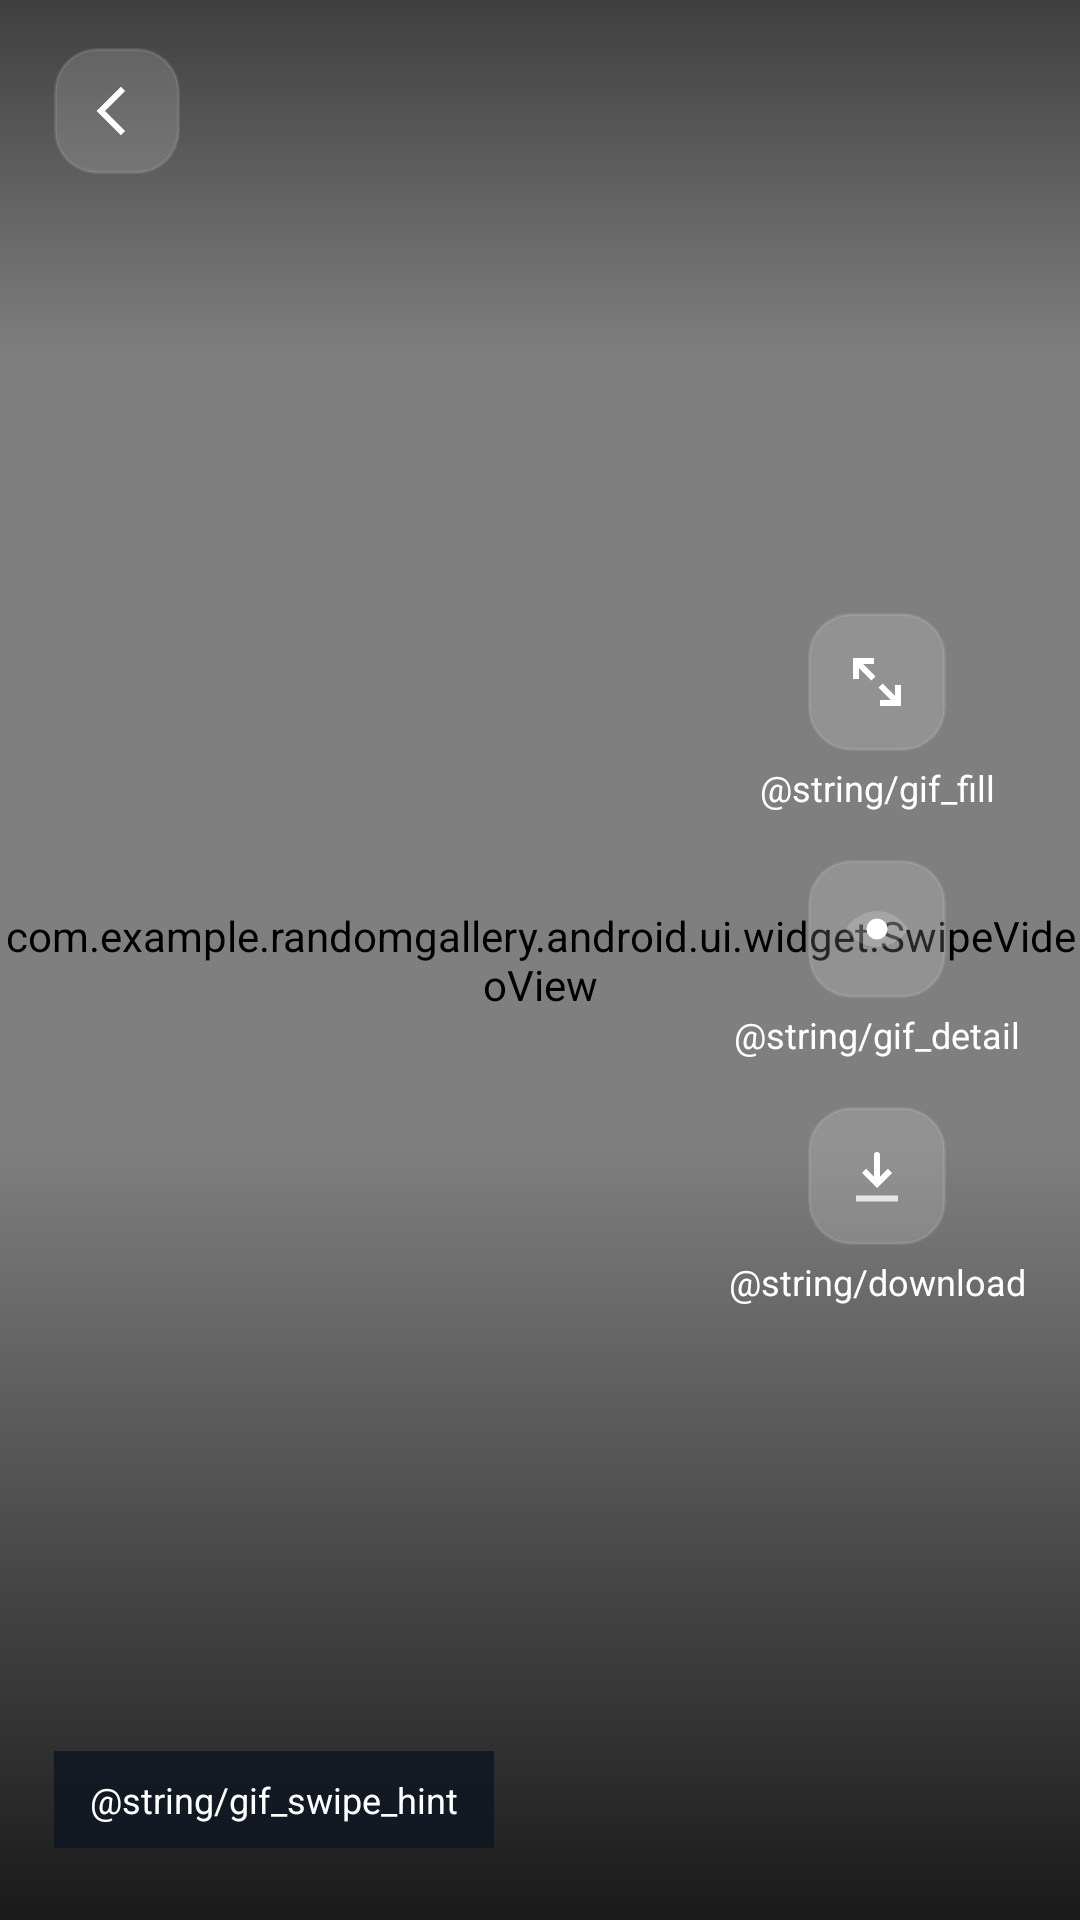

Locate icon controls on the screen. Image size 1080x1920, boxes as box=[x1, y1, x2, y2].
back: box=[54, 48, 180, 174]
